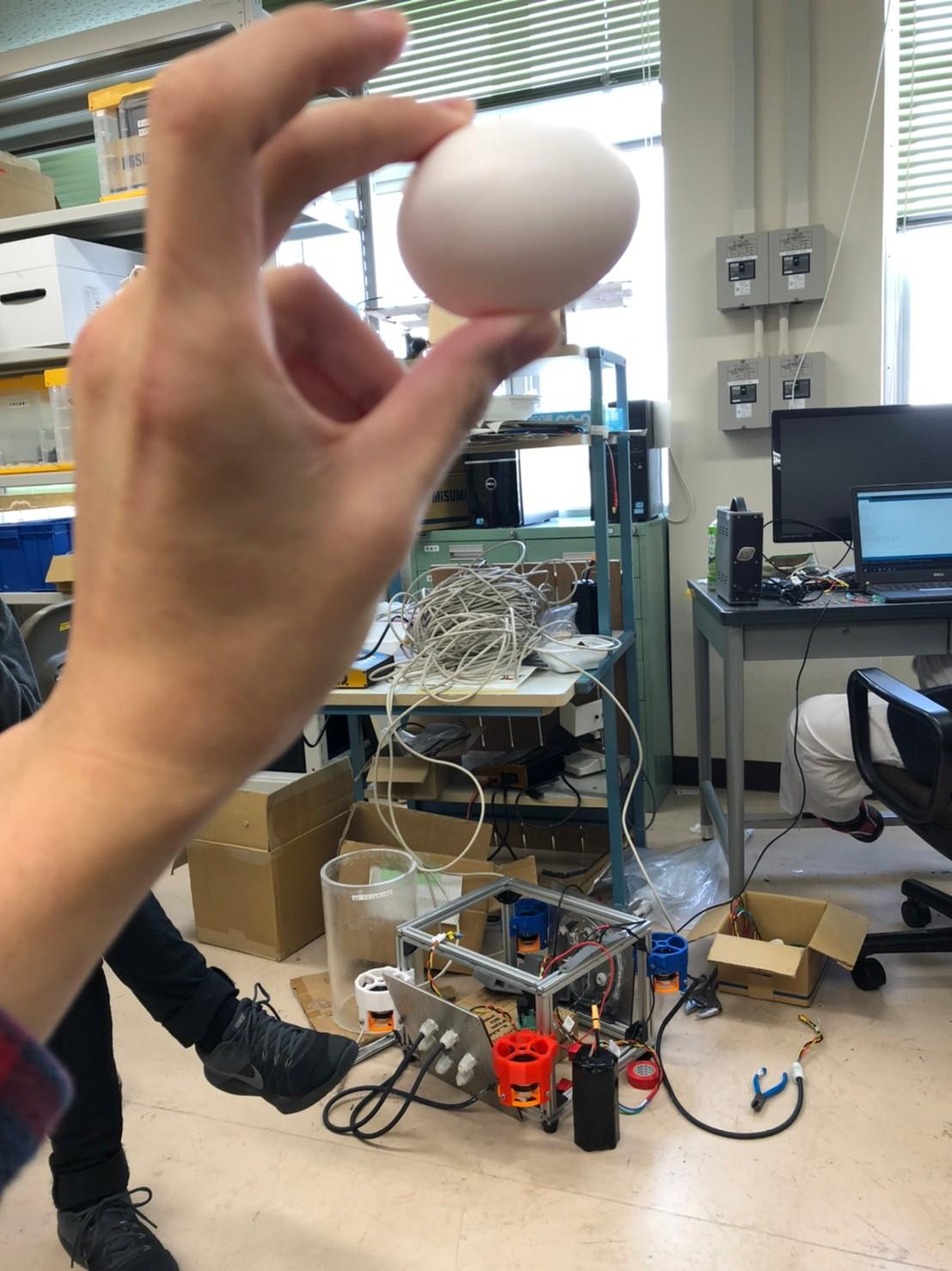egg: (389, 110, 647, 319)
